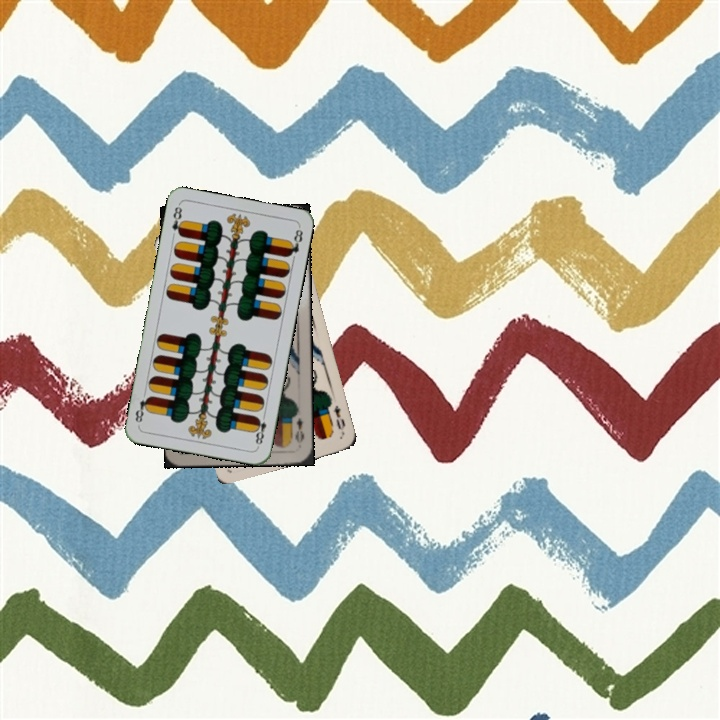E8: (250, 409, 269, 449), (168, 201, 187, 239)
EO: (329, 401, 348, 437), (291, 413, 306, 445)
